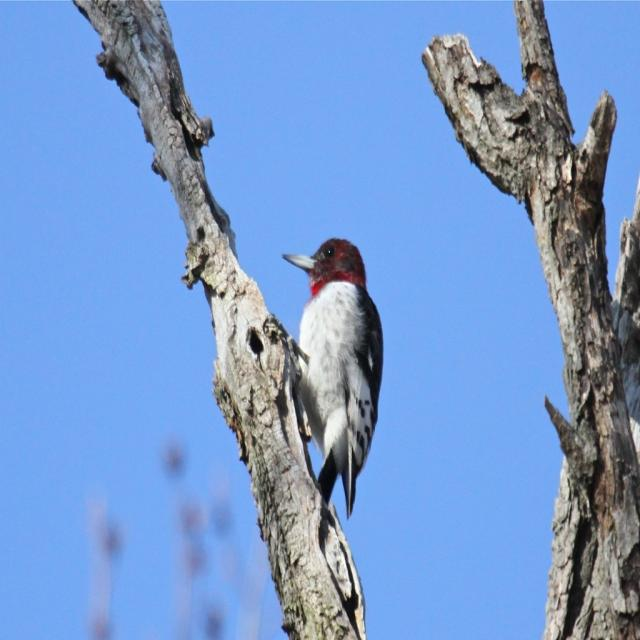bird: (288, 234, 384, 526)
